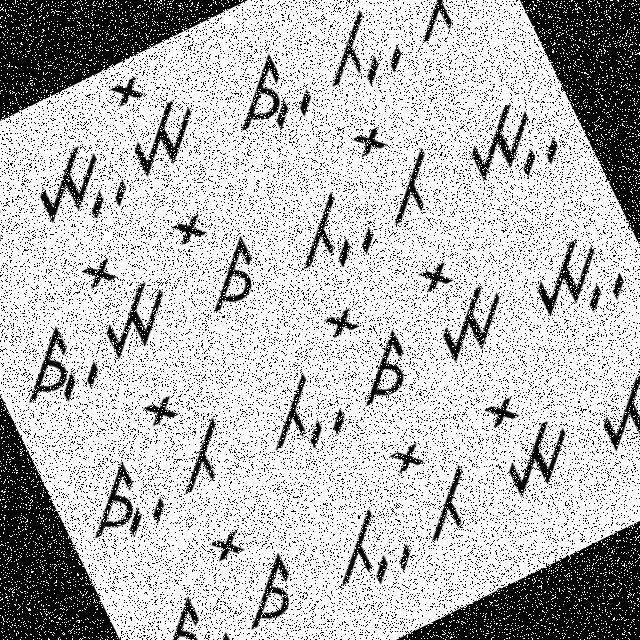bah: (234, 352, 360, 473), (268, 168, 389, 286), (299, 488, 422, 604), (301, 0, 415, 109)
bo: (381, 417, 494, 554), (344, 106, 456, 237), (136, 375, 244, 502), (371, 0, 483, 50)
cah: (0, 303, 116, 430), (210, 38, 326, 149), (57, 446, 173, 555), (129, 584, 247, 639)
co: (310, 279, 434, 419), (156, 190, 280, 326), (198, 504, 317, 639), (0, 148, 25, 280)
mah: (3, 120, 142, 254), (444, 74, 573, 206), (507, 209, 639, 338), (574, 344, 639, 477)
mo: (462, 369, 595, 508), (398, 234, 526, 373), (68, 235, 188, 370), (98, 51, 215, 181)
